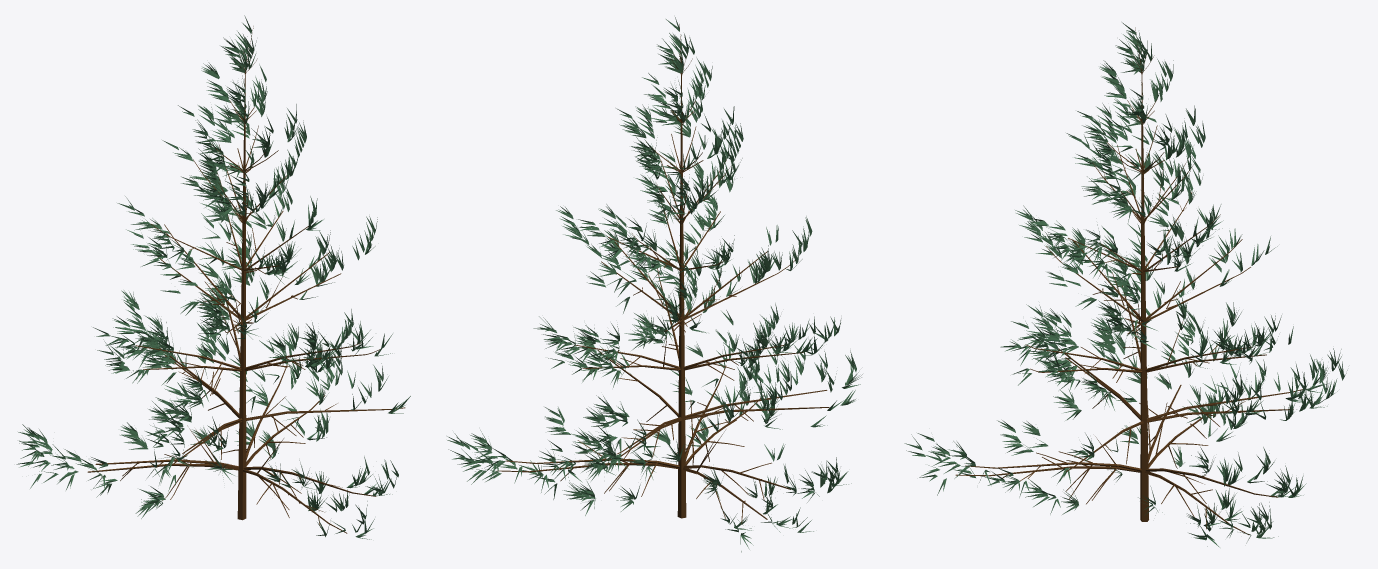
Rendered from Pine_Tree.glb.
The picture shows the model from 3 angles, left to right: view 1: azimuth 30°, elevation 25°; view 2: azimuth 150°, elevation 25°; view 3: azimuth 270°, elevation 25°; orthographic projection.
Visible parts, largest first — view 1: PINC2_LEAF, PINC2_BRNC, PINC2_TRNK; view 2: PINC2_LEAF, PINC2_BRNC, PINC2_TRNK; view 3: PINC2_LEAF, PINC2_BRNC, PINC2_TRNK.
Boxes of the visible parts, box(x1,y1,x2,y2) form: PINC2_LEAF: box(16, 15, 410, 539); PINC2_BRNC: box(87, 26, 405, 533); PINC2_TRNK: box(237, 73, 246, 520); PINC2_LEAF: box(447, 17, 862, 552); PINC2_BRNC: box(497, 24, 829, 523); PINC2_TRNK: box(677, 74, 686, 518); PINC2_LEAF: box(904, 22, 1347, 547); PINC2_BRNC: box(955, 27, 1302, 534); PINC2_TRNK: box(1140, 73, 1148, 521).
Bounding box in the file's own units: 78.06 × 100 × 82.68.
